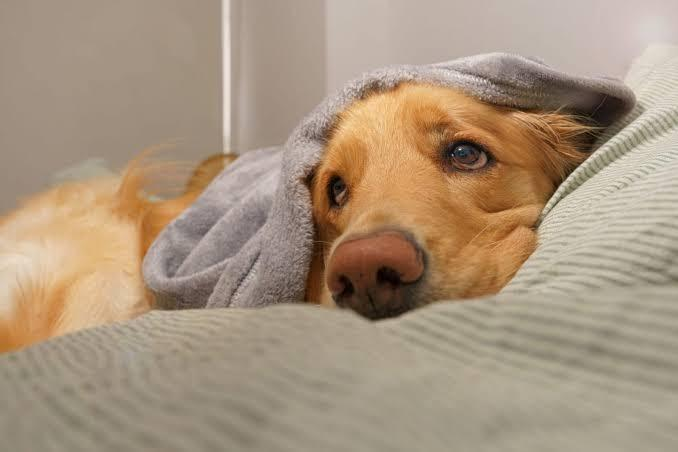adult_dog: (1, 76, 609, 355)
